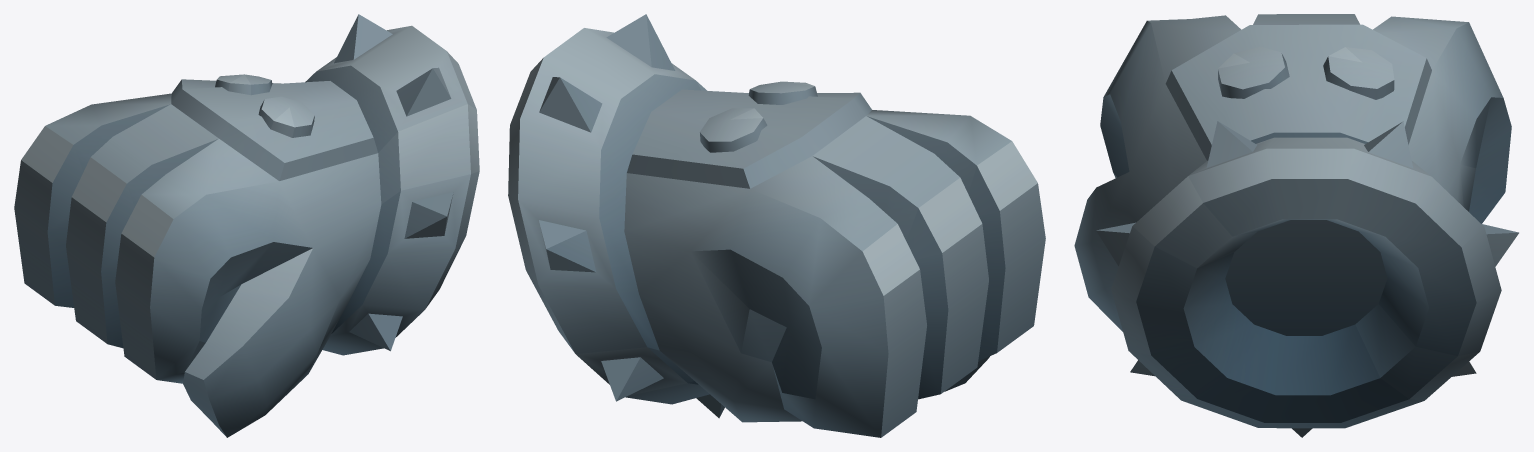
The model's file is fistweapon_C_right.glb.
The picture shows the model from 3 angles, left to right: view 1: azimuth 30°, elevation 25°; view 2: azimuth 150°, elevation 25°; view 3: azimuth 270°, elevation 25°; orthographic projection. The views are drawn at different scales.
Visible parts, largest first — view 1: fistweapon_C_right; view 2: fistweapon_C_right; view 3: fistweapon_C_right.
Part boxes in pixels (x1,y1,x2,y2): fistweapon_C_right: (14, 14, 479, 437); fistweapon_C_right: (508, 14, 1045, 437); fistweapon_C_right: (1074, 14, 1518, 437).
Bounding box in the file's own units: 0.5237 × 0.4163 × 0.4464.
Materials: 1 (1 with a texture image).
